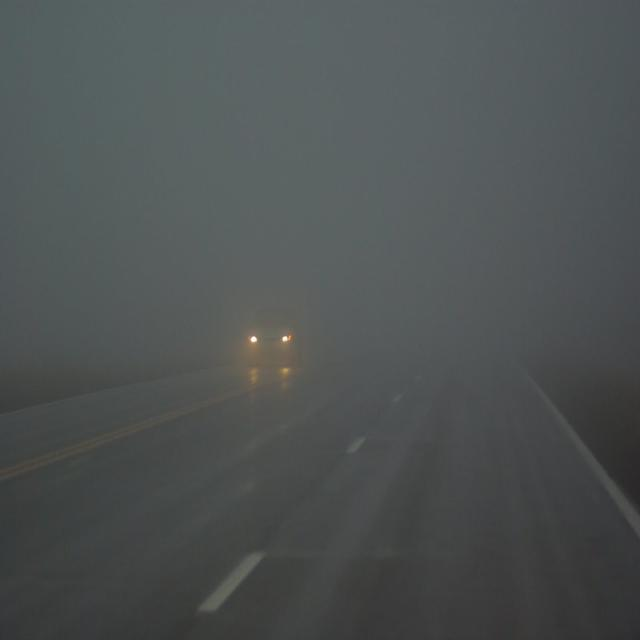car: (245, 302, 303, 369)
